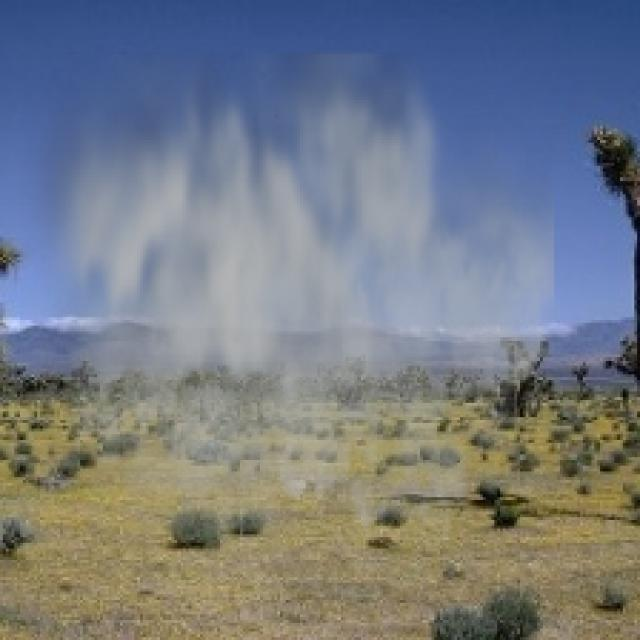smoke: (20, 52, 554, 597)
